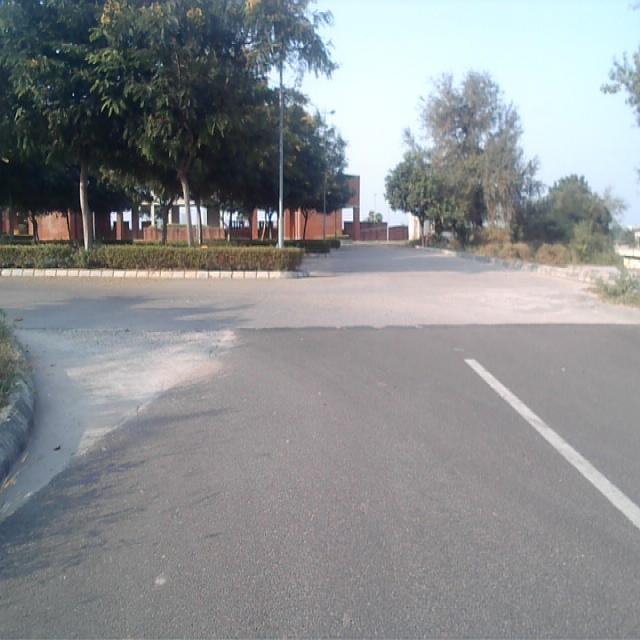lane: (0, 327, 640, 640)
